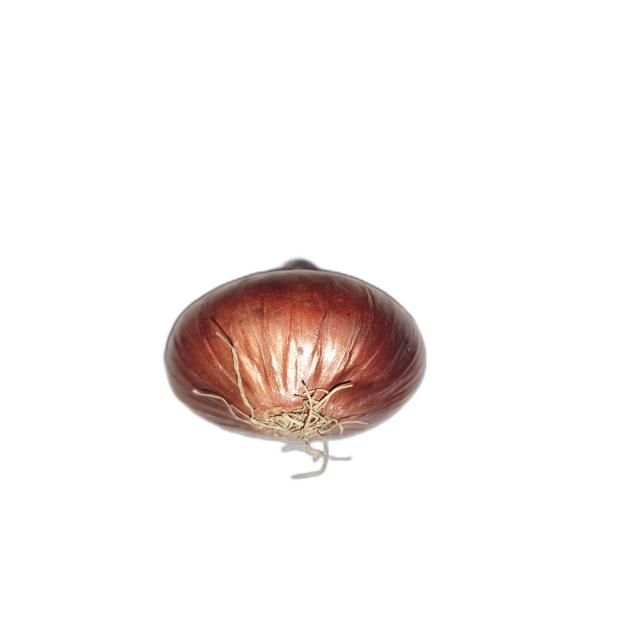onion: (164, 258, 428, 479)
